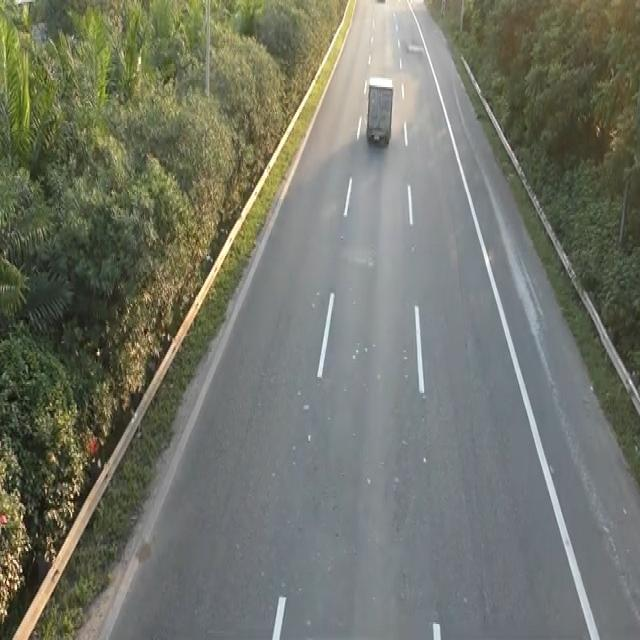minivan: (364, 73, 394, 147)
